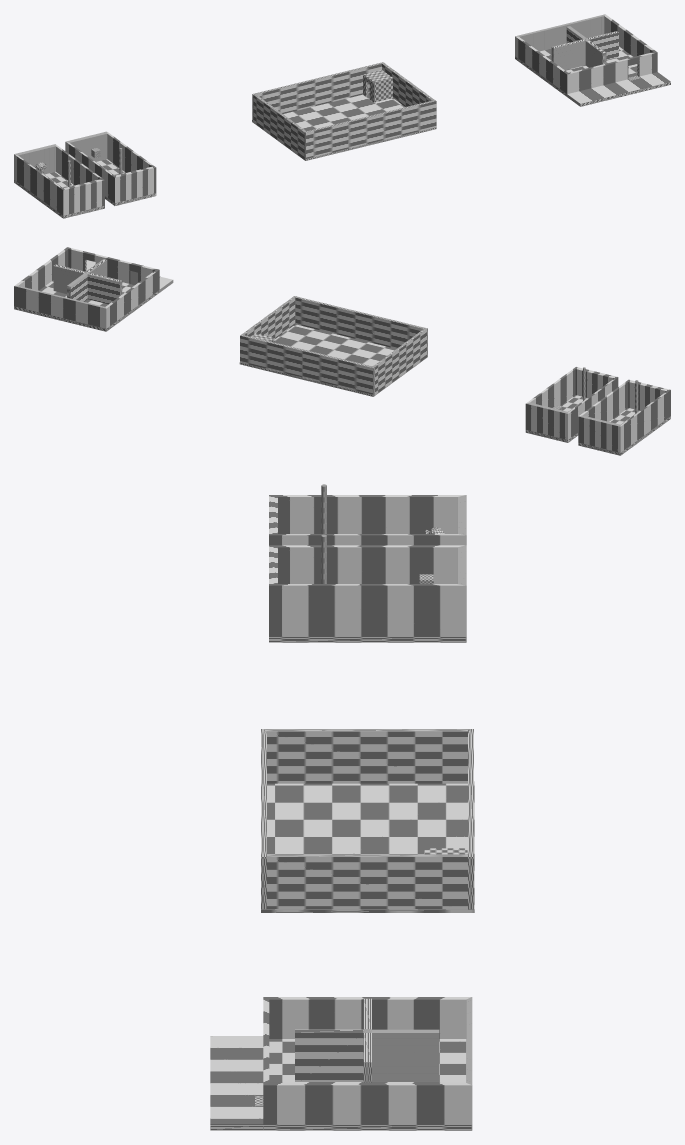
The model's file is test_level.obj.
The picture shows the model from 3 angles, top to bottom: view 1: azimuth 30°, elevation 25°; view 2: azimuth 150°, elevation 25°; view 3: azimuth 270°, elevation 25°; orthographic projection. The views are drawn at different scales.
Parts seen in each view (by area): view 1: Room1, Room2, Room3V2, Room3; view 2: Room1, Room2, Room3V2, Room3; view 3: Room1, Room2, Room3, Room3V2.
Part boxes in pixels (bbox=[...]): Room1: bbox=[252, 62, 436, 160]; Room2: bbox=[515, 14, 670, 106]; Room3V2: bbox=[14, 144, 104, 218]; Room3: bbox=[65, 131, 156, 205]; Room1: bbox=[239, 296, 427, 396]; Room2: bbox=[14, 247, 173, 331]; Room3V2: bbox=[578, 379, 670, 455]; Room3: bbox=[525, 367, 618, 442]; Room1: bbox=[261, 729, 474, 912]; Room2: bbox=[210, 997, 472, 1130]; Room3: bbox=[269, 534, 466, 642]; Room3V2: bbox=[269, 484, 466, 545].
Bounding box in the file's own units: 63.33 × 4.37 × 12.22.
Materials: 1 (1 with a texture image).
